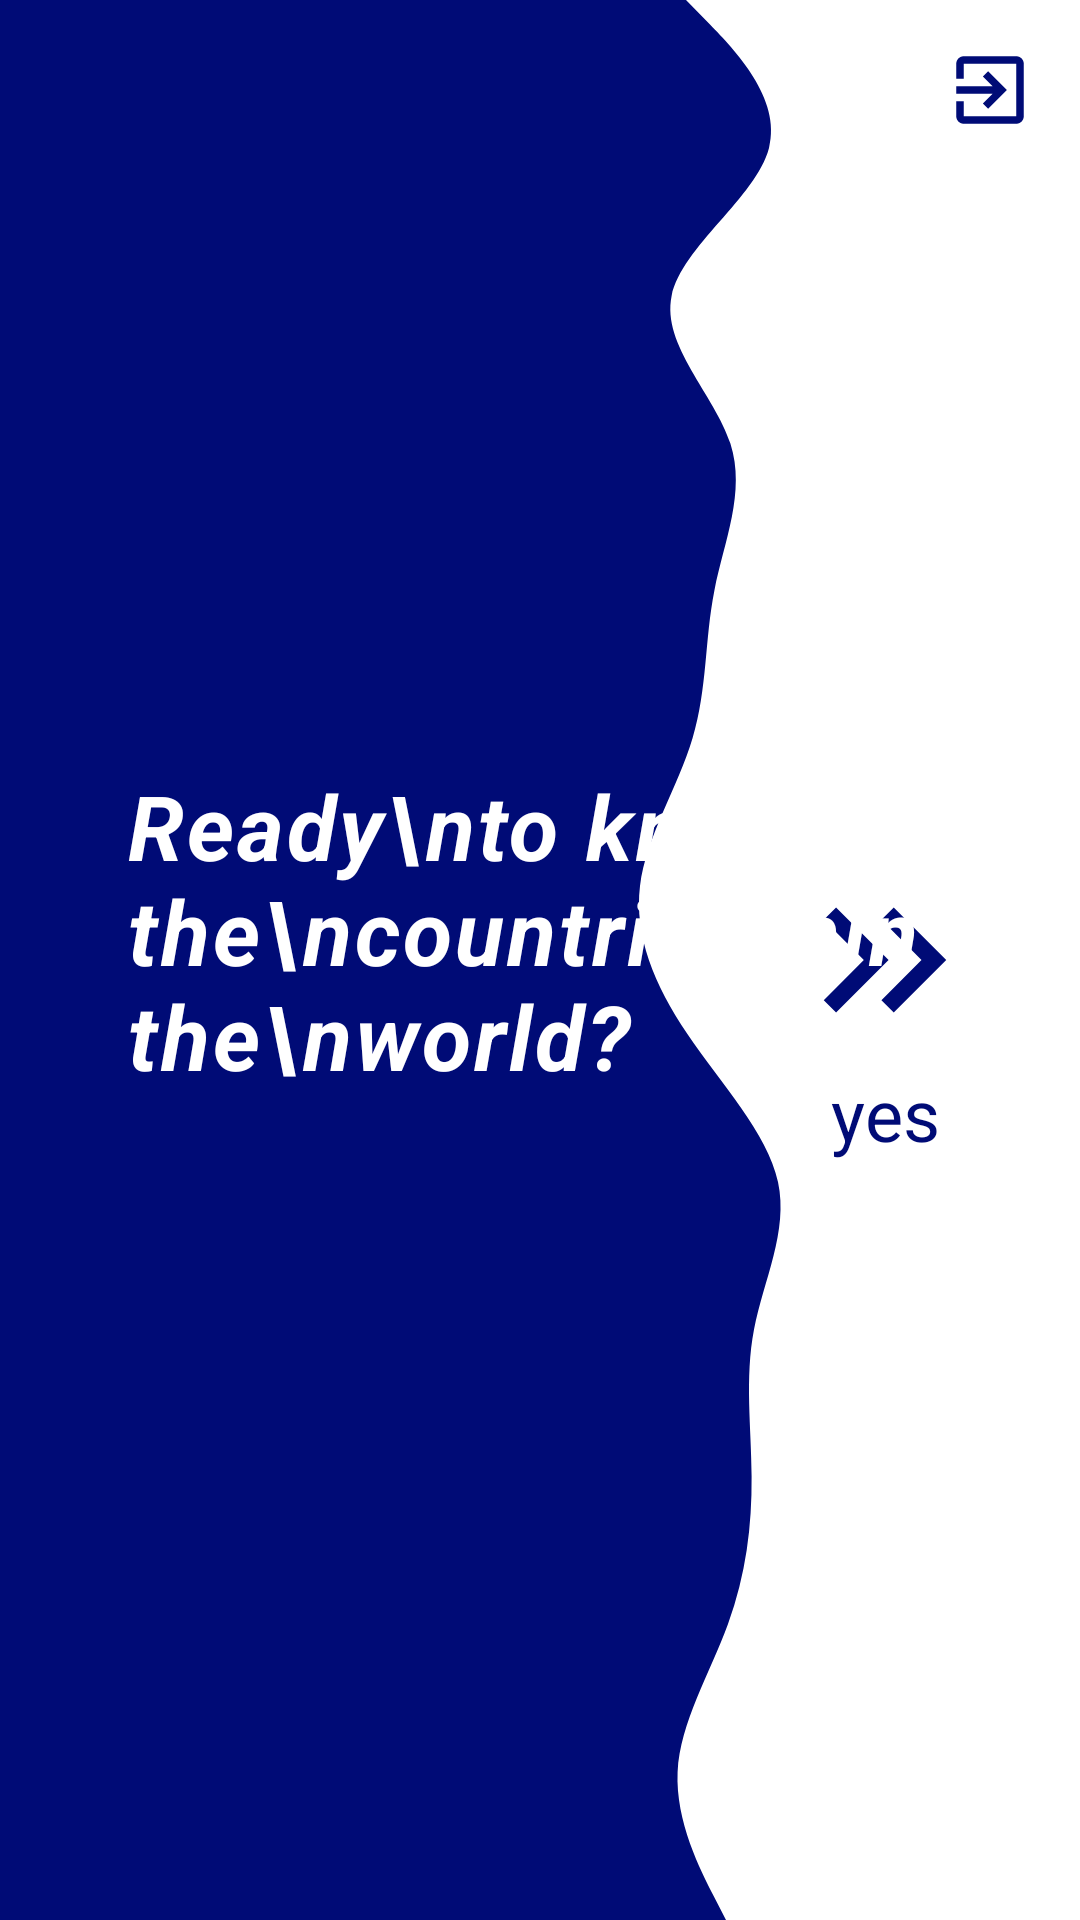

Named icons in this screenshot (1080px×1920px) and their bounding boxes, detection(x1, y1, x2, y2):
start exit: detection(956, 56, 1024, 124)
start panah: detection(824, 907, 946, 1013)
